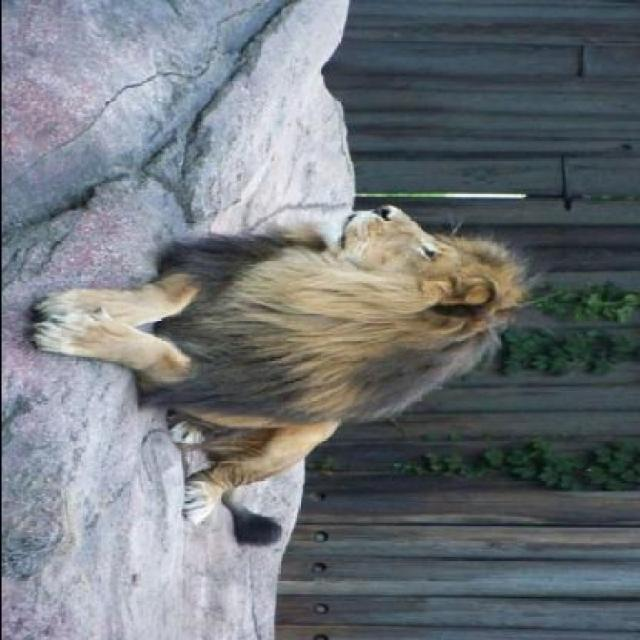Lion: (23, 190, 543, 552)
